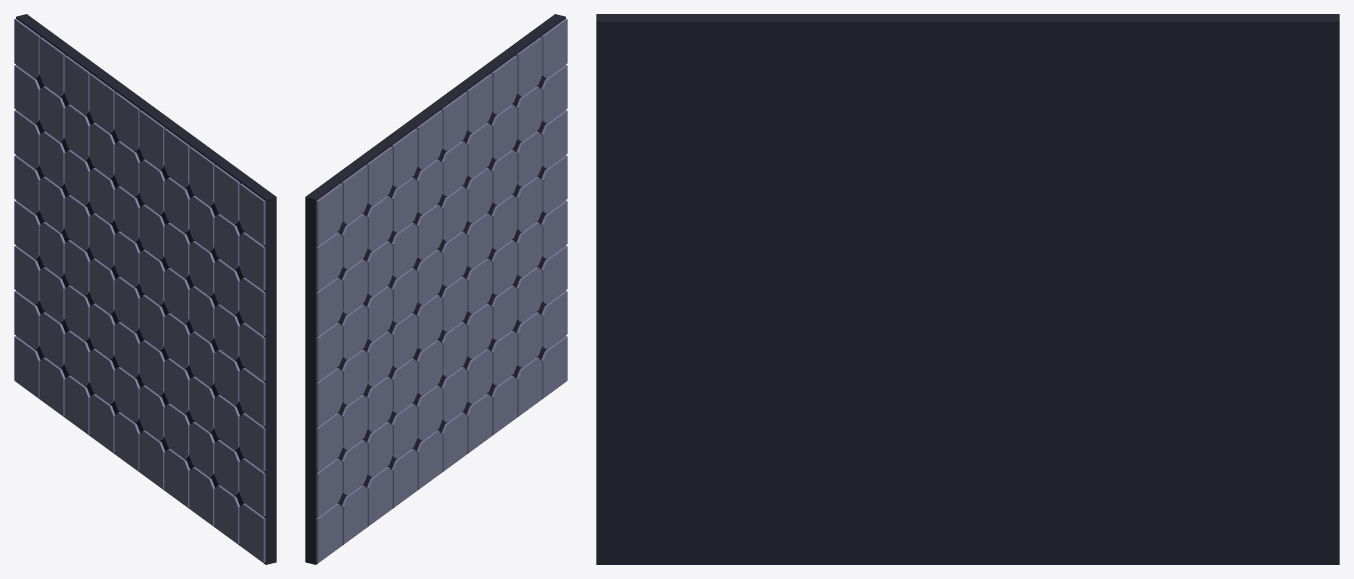
The model's file is GunRack.fbx.
3 renders of one model, left to right at view 1: azimuth 30°, elevation 25°; view 2: azimuth 150°, elevation 25°; view 3: azimuth 270°, elevation 25°, orthographic. The views are drawn at different scales.
Parts seen in each view (by area): view 1: Gun_rack; view 2: Gun_rack; view 3: Gun_rack.
Boxes of the visible parts, x1,y1,x2,y2 form: Gun_rack: [14, 14, 276, 564]; Gun_rack: [305, 14, 567, 564]; Gun_rack: [596, 14, 1339, 564].
Size of the model in its own units: 0.045 by 1.21 by 1.5.
